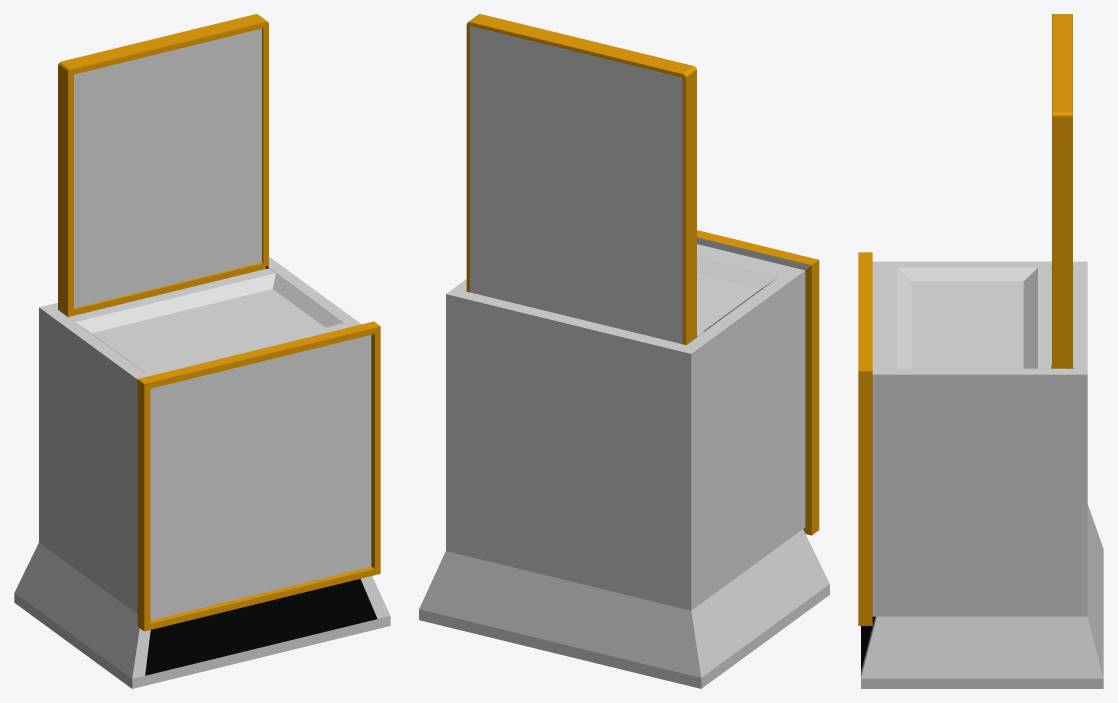
The model's file is Pedestal.fbx.
The picture shows the model from 3 angles, left to right: view 1: azimuth 30°, elevation 25°; view 2: azimuth 150°, elevation 25°; view 3: azimuth 270°, elevation 25°; orthographic projection. The views are drawn at different scales.
Visible parts, largest first — view 1: Cube.001; view 2: Cube.001; view 3: Cube.001.
Boxes of the visible parts, x1,y1,x2,y2 form: Cube.001: (14,14,390,688); Cube.001: (419,14,829,688); Cube.001: (858,14,1103,688).
Bounding box in the file's own units: 218 × 440 × 174.
